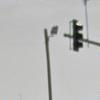Traffic light: (63, 12, 91, 60)
